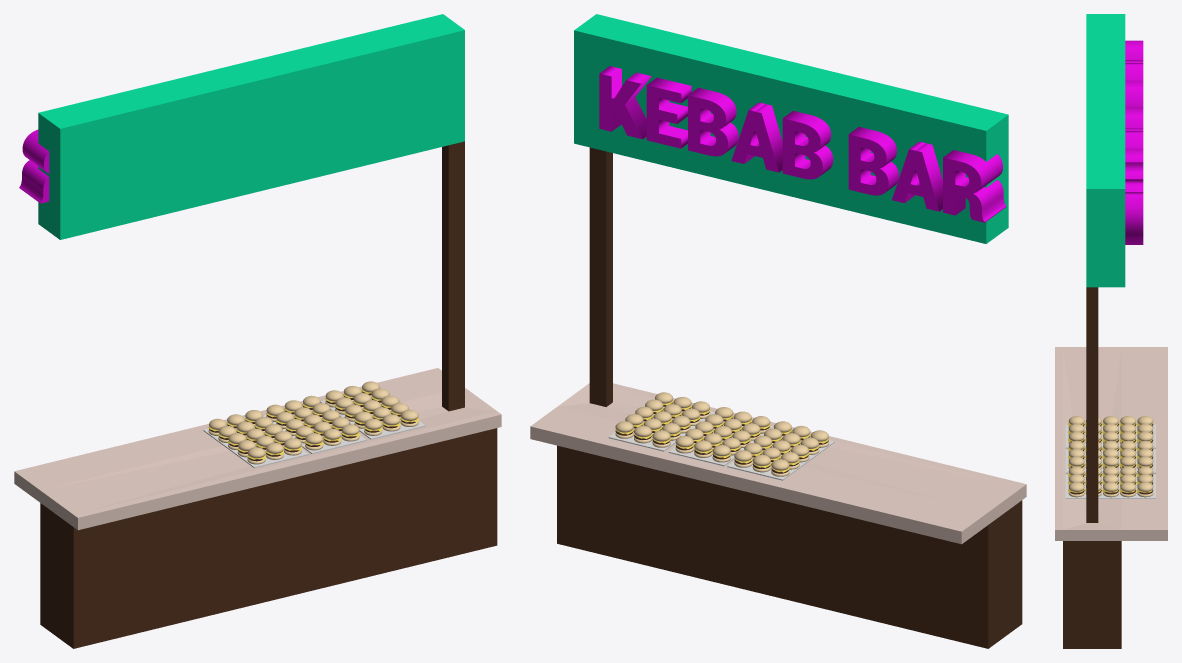
File: KebabBar.fbx
3 views of the same model, side by side, from view 1: azimuth 30°, elevation 25°; view 2: azimuth 150°, elevation 25°; view 3: azimuth 270°, elevation 25° (orthographic). The views are drawn at different scales.
Parts seen in each view (by area): view 1: Base.001, Cylinder.008, Cylinder.006, Cylinder.007, Text.001; view 2: Base.001, Text.001, Cylinder.008, Cylinder.006, Cylinder.007; view 3: Base.001, Text.001, Cylinder.006, Cylinder.007, Cylinder.008, Cube.007, Cube.008, Cube.009.
Part boxes in pixels (box(x1,y1,x2,y2)): Base.001: box(14, 14, 501, 648); Cylinder.008: box(208, 410, 302, 464); Cylinder.006: box(325, 381, 418, 435); Cylinder.007: box(266, 395, 359, 450); Text.001: box(19, 129, 49, 203); Base.001: box(530, 14, 1026, 648); Text.001: box(599, 66, 1006, 222); Cylinder.008: box(734, 421, 829, 476); Cylinder.006: box(615, 392, 710, 447); Cylinder.007: box(675, 407, 770, 462); Base.001: box(1055, 14, 1167, 648); Text.001: box(1125, 40, 1143, 244); Cylinder.006: box(1067, 466, 1153, 497); Cylinder.007: box(1067, 440, 1153, 469); Cylinder.008: box(1067, 416, 1153, 443); Cube.007: box(1065, 474, 1155, 498); Cube.008: box(1065, 449, 1155, 473); Cube.009: box(1065, 424, 1155, 448).
Size of the model in its own units: 353 by 398 by 90.12.
